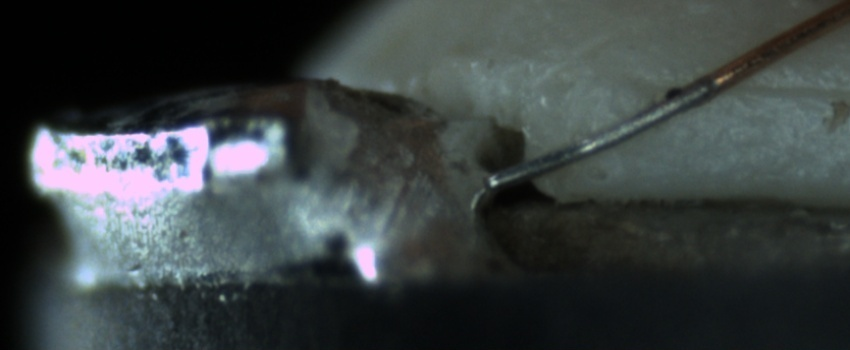DL: (650, 62, 849, 114)
TS: (490, 76, 721, 186)
